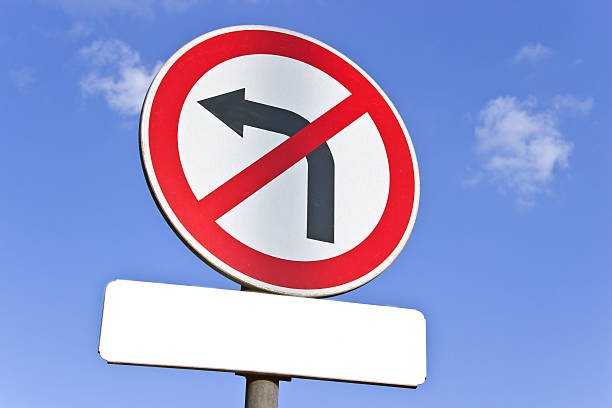sola_girilmez: (139, 23, 423, 298)
